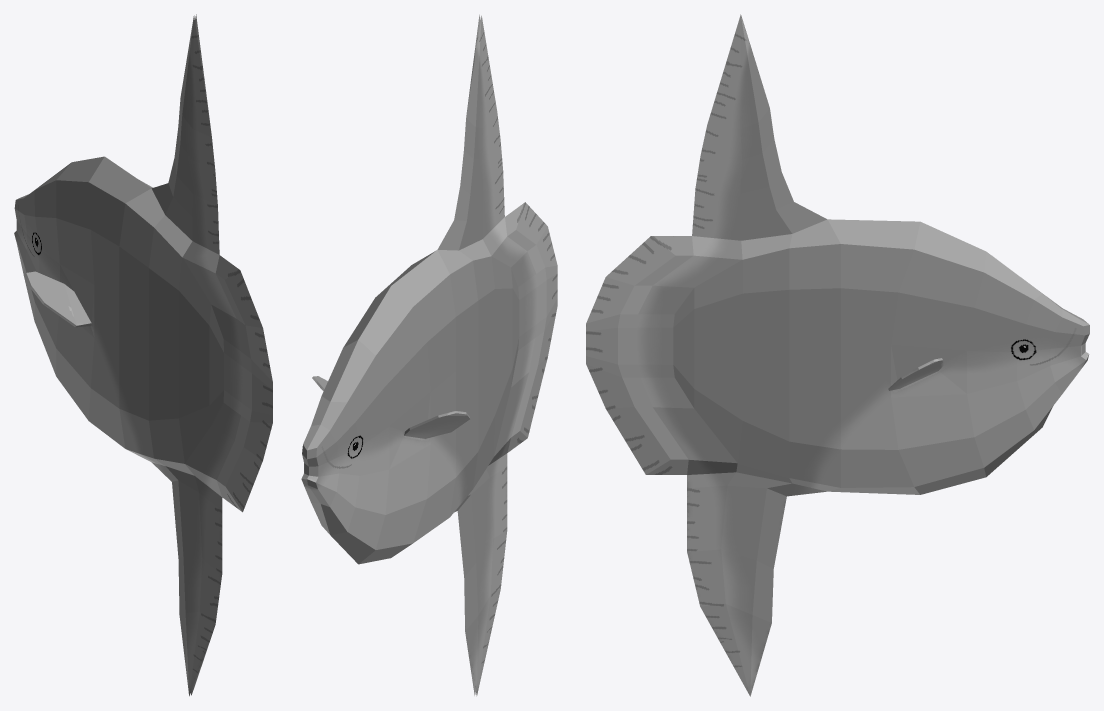
The model's file is Sunfish.fbx.
3 renders of one model, left to right at view 1: azimuth 30°, elevation 25°; view 2: azimuth 150°, elevation 25°; view 3: azimuth 270°, elevation 25°, orthographic.
Visible parts, largest first — view 1: Cube; view 2: Cube; view 3: Cube.
Part boxes in pixels (<box>): Cube: <box>14,14,272,696</box>; Cube: <box>301,14,557,696</box>; Cube: <box>586,14,1089,696</box>.
Size of the model in its own units: 224 by 970 by 650.
1 material, 1 textured.
